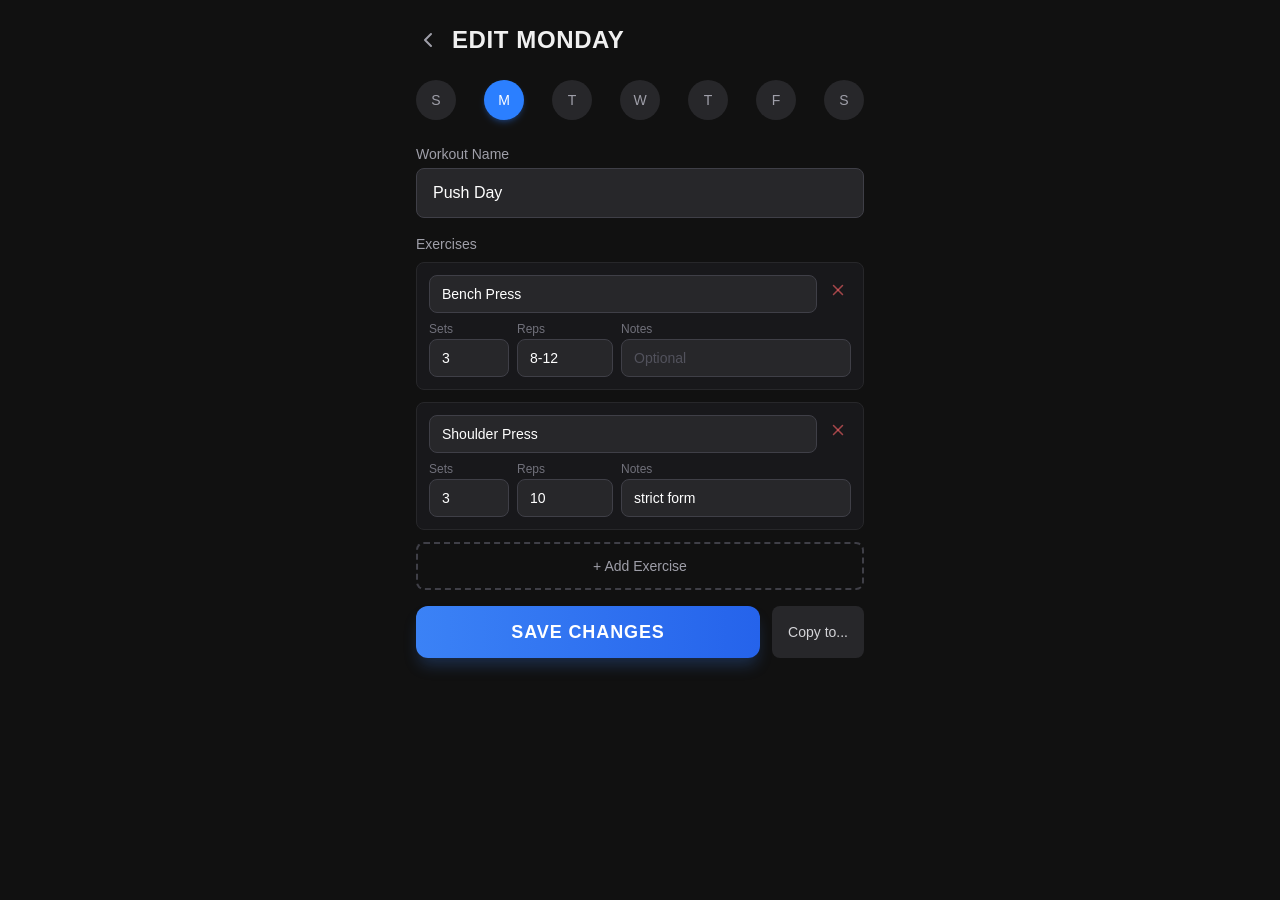
Test: ScheduleEditPage - Copy to Day › shows overwrite confirmation when selecting a day with existing workout
Click the button "Copy to..." at (818, 632), box [772,606,864,658]
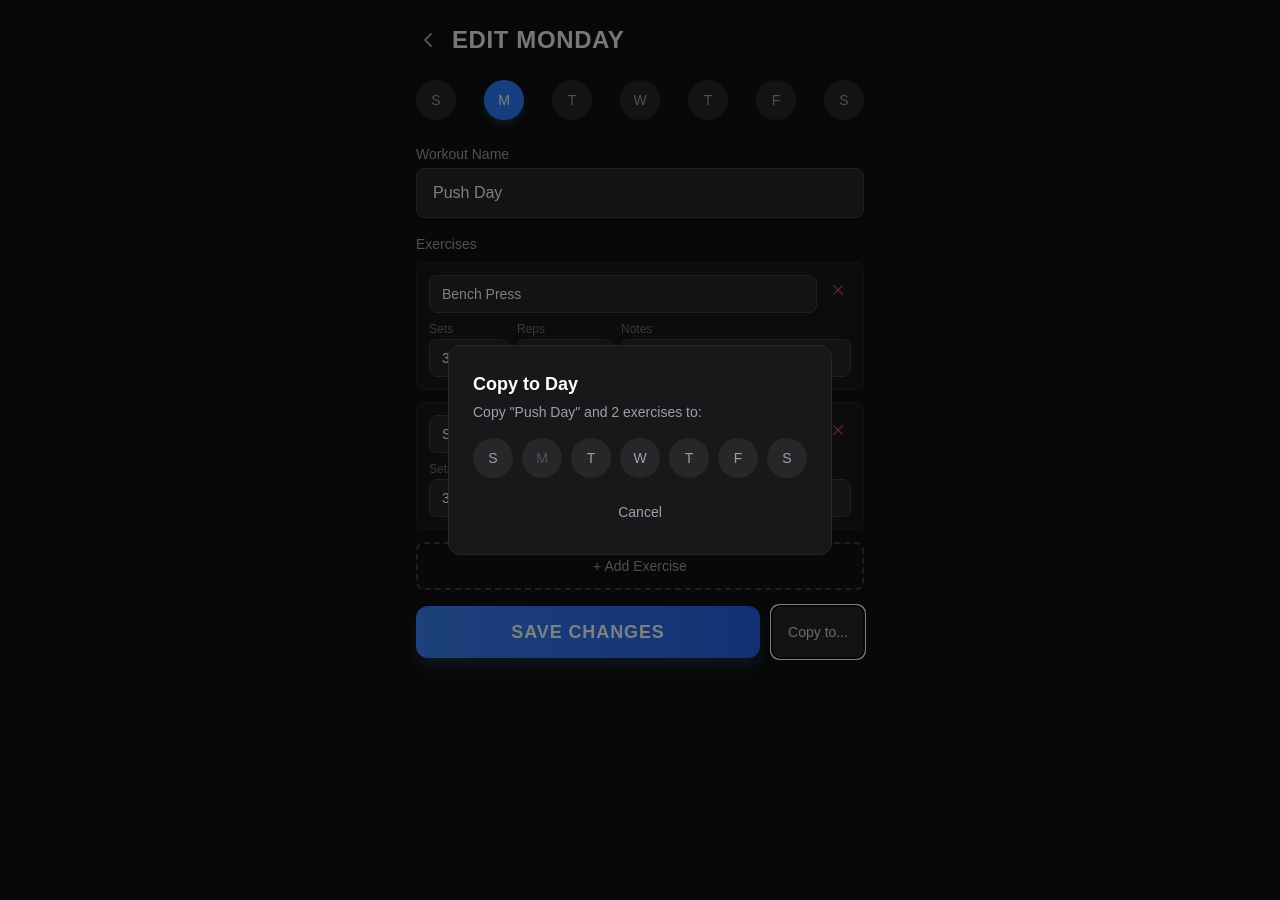
Click the button "W" at (640, 458), box [620,438,660,478]
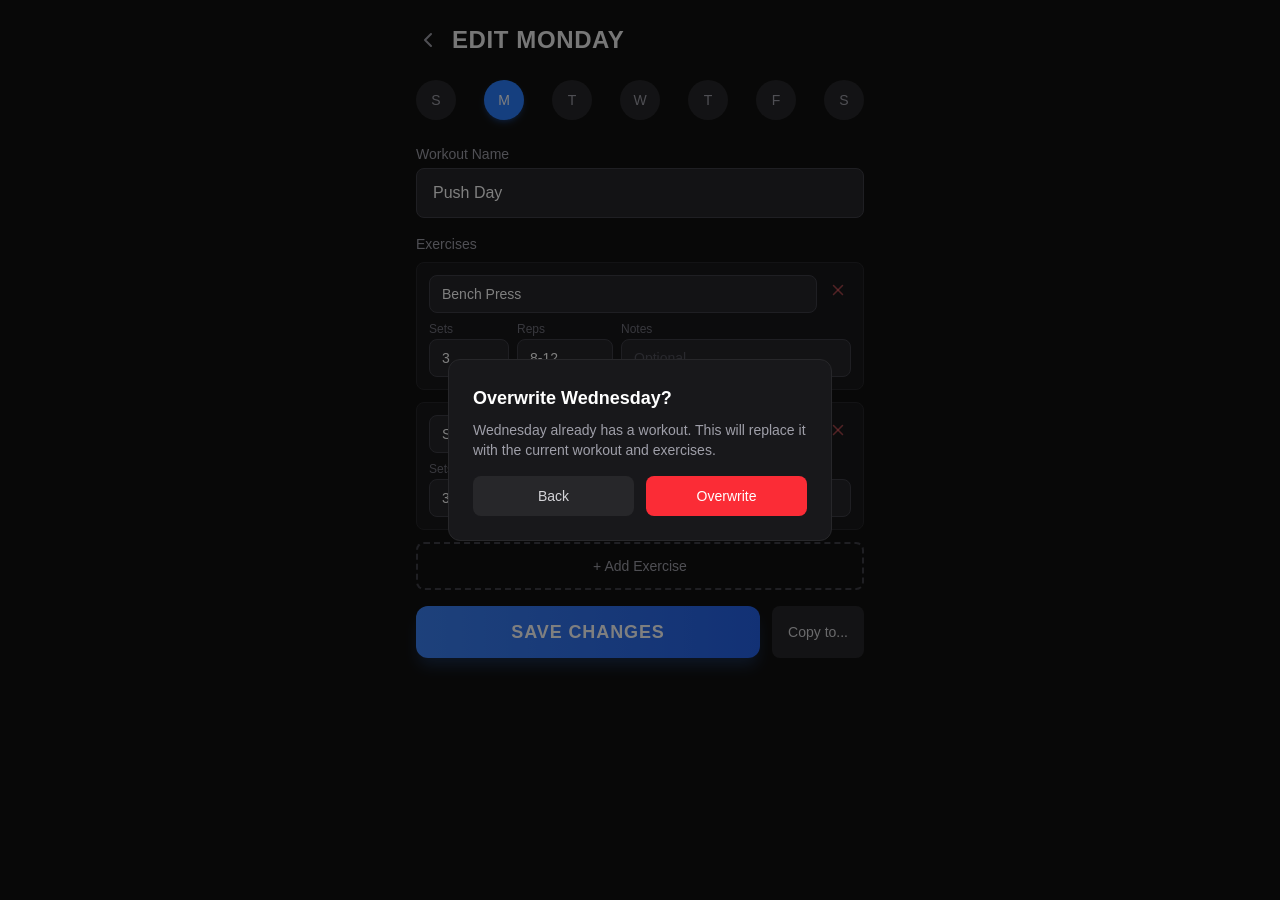
Now the heading "Overwrite Wednesday?" is shown, box [473,388,672,408]
